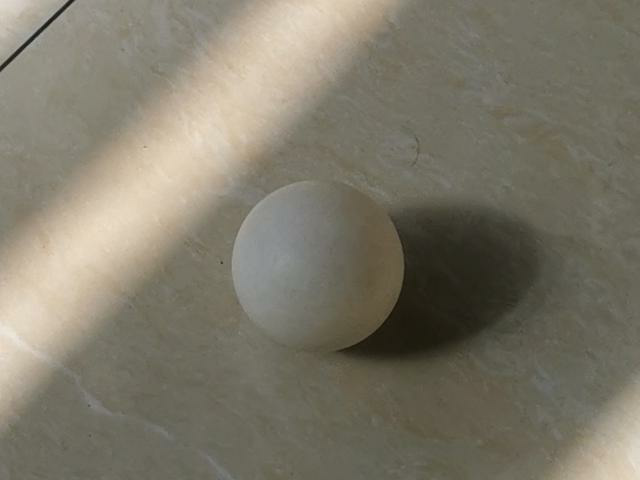ball: (232, 182, 403, 353)
